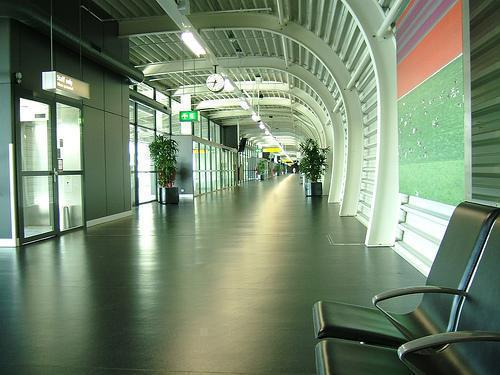Matera: (149, 135, 184, 213), (301, 141, 327, 196)
Puerta: (14, 86, 87, 233)
